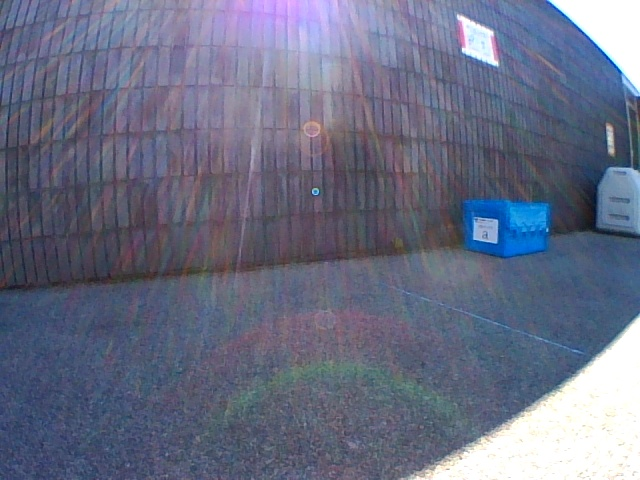blue_box: (463, 200, 549, 258)
tag_a: (475, 220, 496, 240)
